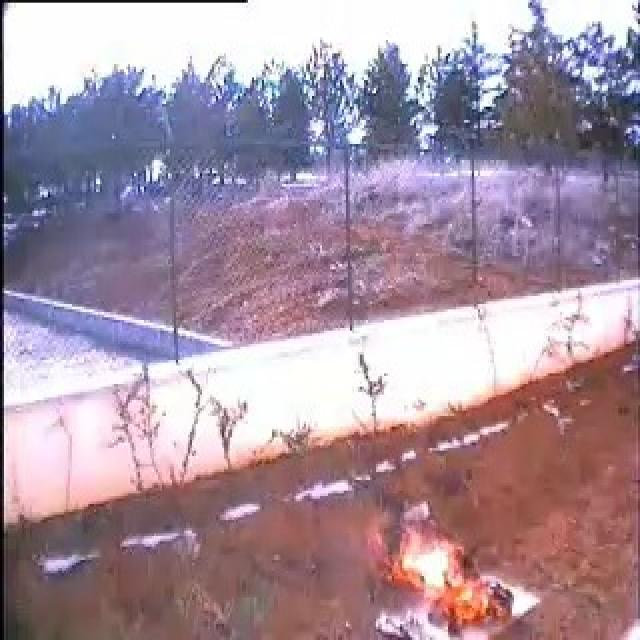fire: (395, 548, 507, 630)
smoke: (383, 501, 404, 543)
